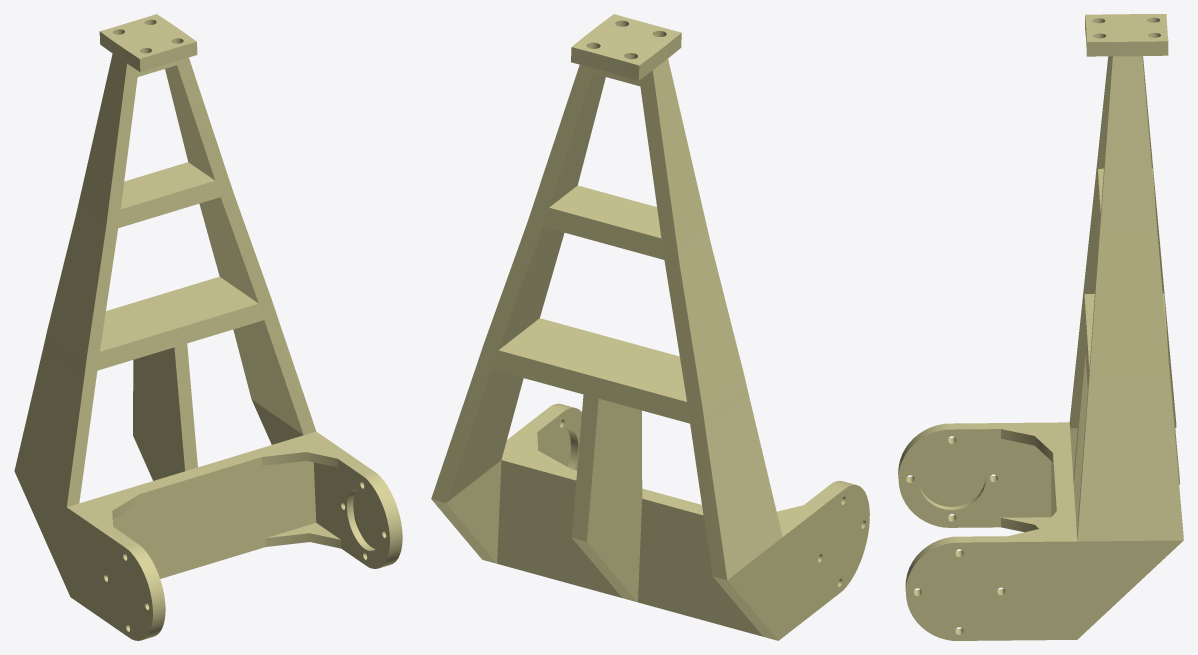
The model's file is leg-7.FBX.
3 renders of one model, left to right at view 1: azimuth 30°, elevation 25°; view 2: azimuth 150°, elevation 25°; view 3: azimuth 270°, elevation 25°, orthographic. The views are drawn at different scales.
Visible parts, largest first — view 1: Cylinder090; view 2: Cylinder090; view 3: Cylinder090.
Boxes of the visible parts, x1,y1,x2,y2 form: Cylinder090: (14,14,402,640); Cylinder090: (431,14,869,640); Cylinder090: (898,14,1183,640).
Size of the model in its own units: 2.42 by 4.56 by 2.15.
